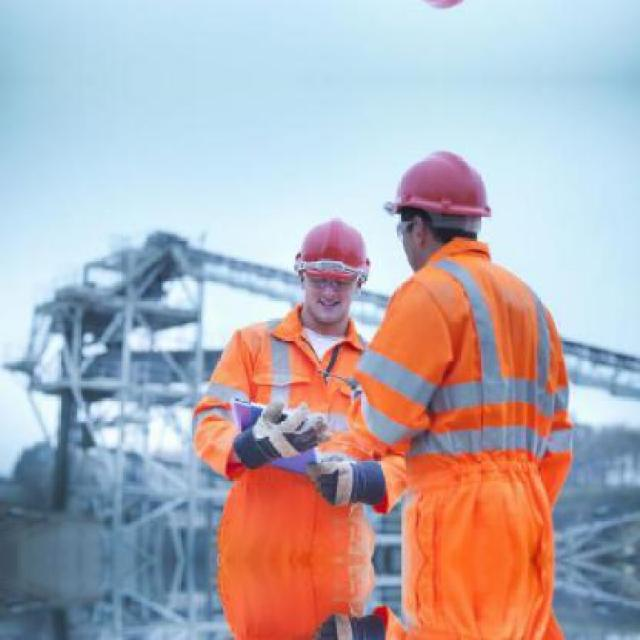Reflective-Jacket: (366, 243, 583, 579), (200, 311, 385, 589)
Safety-Helmet: (377, 143, 503, 232), (282, 210, 382, 292)
